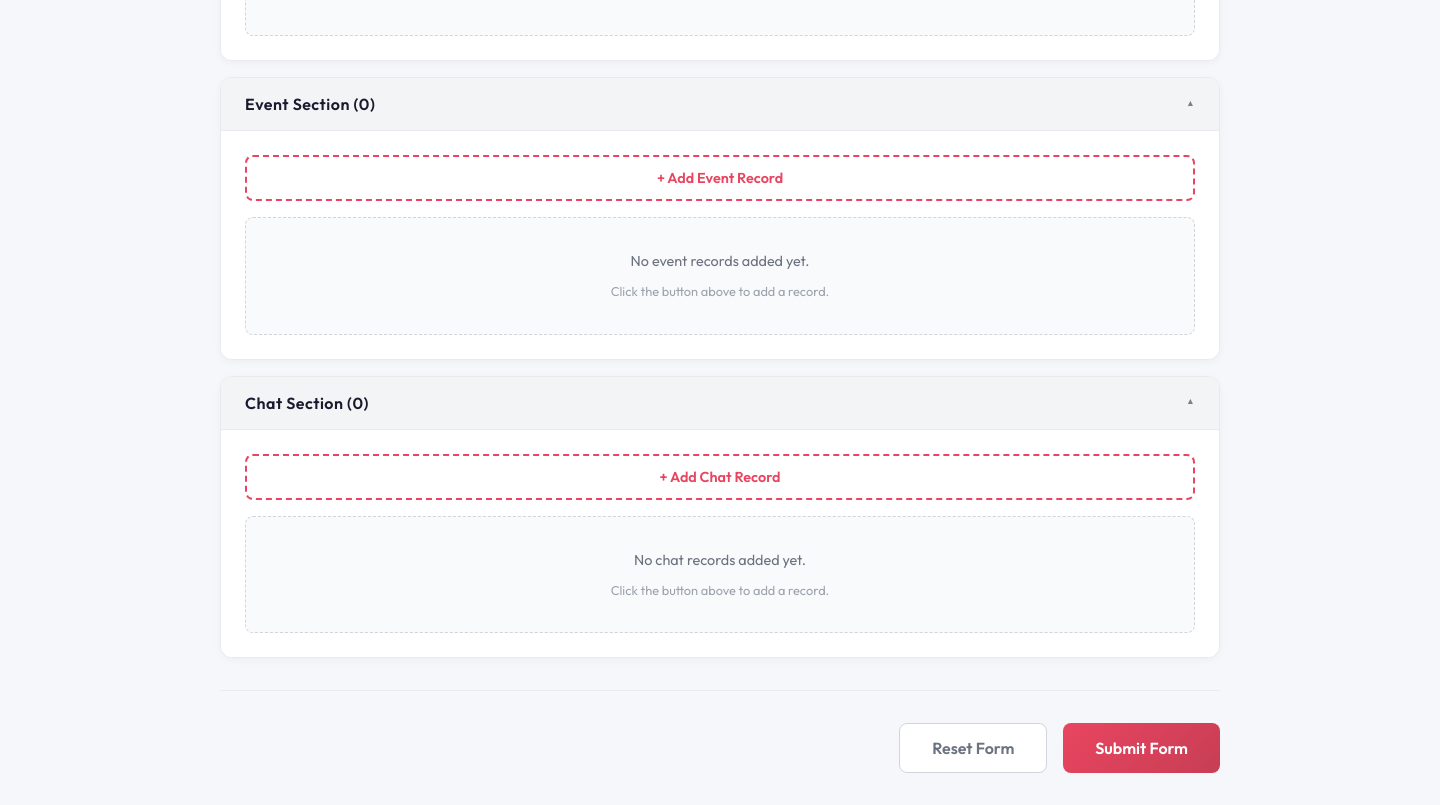
FormPage › shows error message when submitting empty form
This screenshot has width=1440, height=805.
(page scrolled)
Click the button "Submit Form".
click(1142, 748)  # box left=1063, top=723, right=1220, bottom=773
(page scrolled)
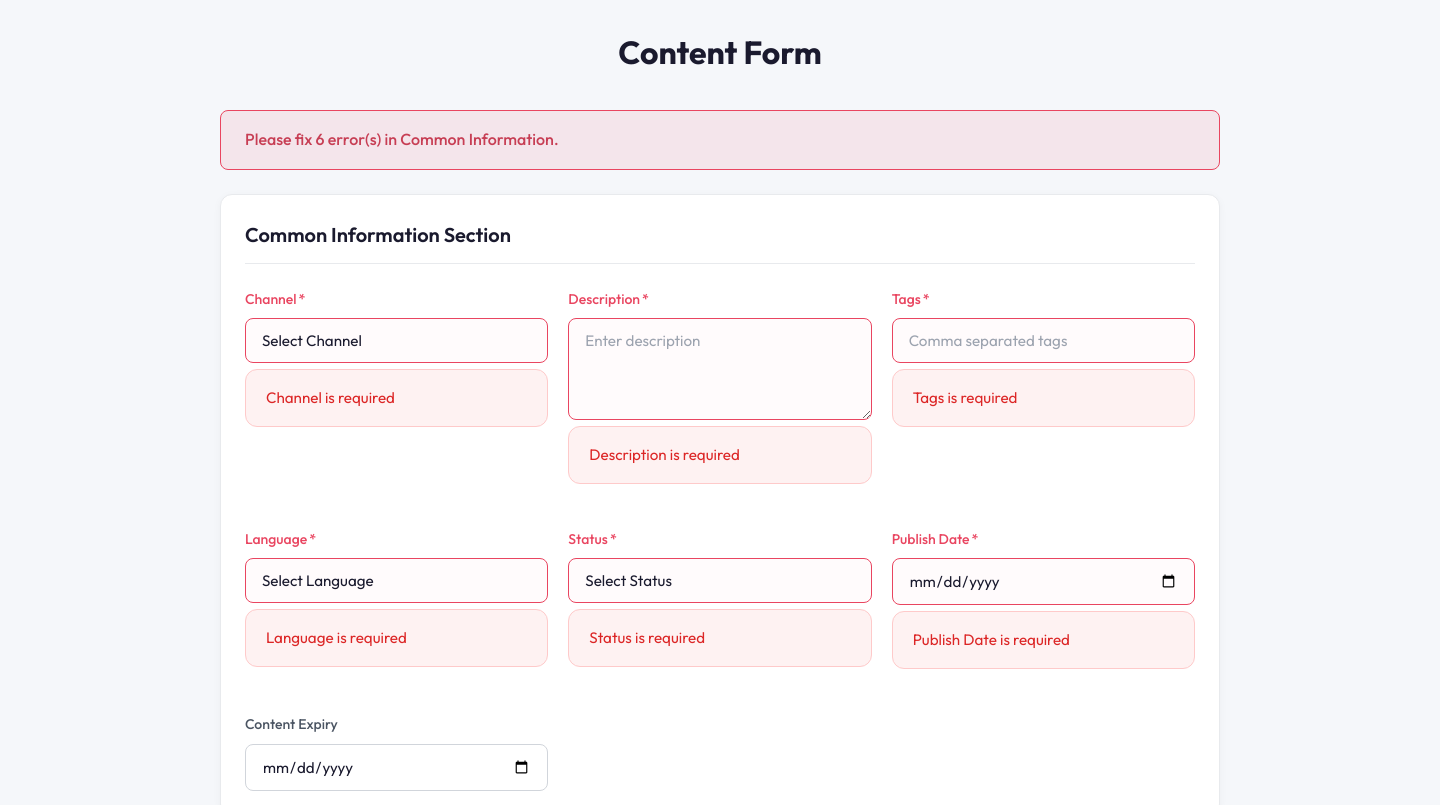
expect the text "Please fix 6 error(s) in Common Information." is shown: met, box left=220, top=110, right=1220, bottom=170
